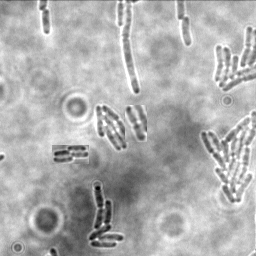Dividing: (123, 1, 142, 95), (125, 105, 147, 142), (41, 8, 52, 35)
Microcolony: (200, 109, 255, 205), (212, 25, 255, 94), (89, 184, 126, 248), (96, 103, 132, 150), (52, 145, 89, 164), (182, 16, 193, 48)
